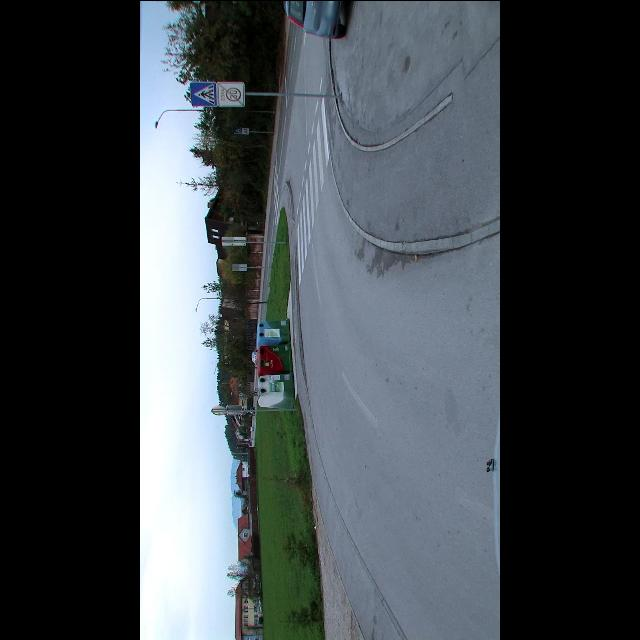Rectangle: (217, 81, 245, 105), (242, 126, 250, 134)
Squared: (190, 80, 216, 106), (233, 126, 243, 132)
